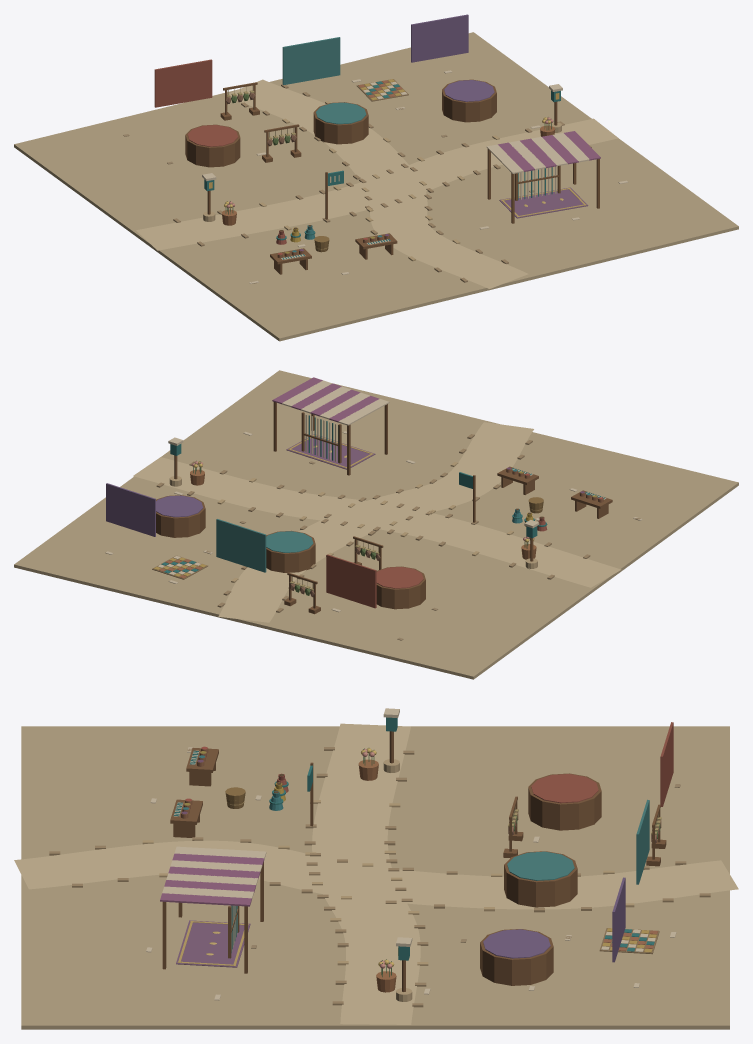
Rendered from city-dye.glb.
3 views of the same model, one above another, from view 1: azimuth 30°, elevation 25°; view 2: azimuth 150°, elevation 25°; view 3: azimuth 270°, elevation 25° (orthographic). The views are drawn at different scales.
Parts seen in each view (by area): view 1: city-dye; view 2: city-dye; view 3: city-dye.
Part boxes in pixels (bbox=[...]): city-dye: bbox=[14, 14, 738, 341]; city-dye: bbox=[14, 370, 738, 679]; city-dye: bbox=[14, 708, 738, 1029].
Size of the model in its own units: 32.2 by 4.27 by 32.74.
